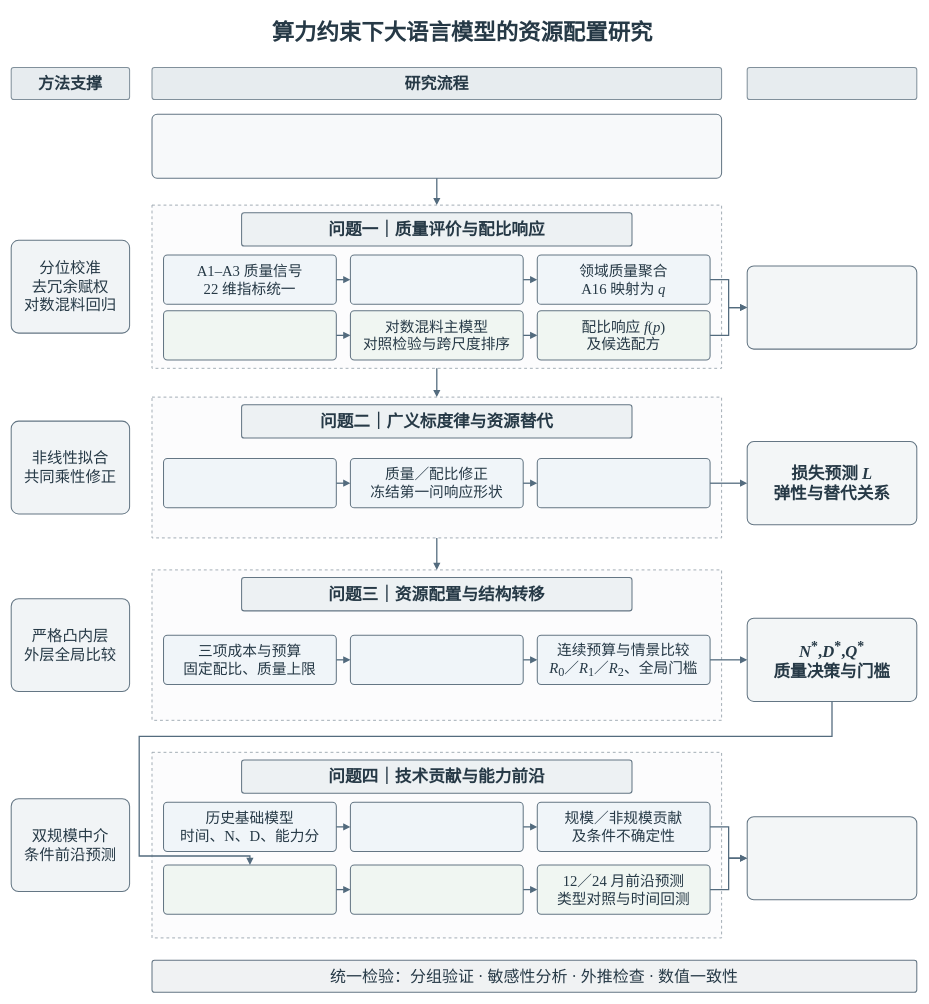
The diagram is 929 pixels wide and 1004 high, and some of its shapes have lost their labels. Here are the shapes that lost their labels. From the top down, the centre of each, then its label:
At (831,83): "任务产出".
At (436,145): "附件 A：质量信号与配比实验 · 附件 B：标度律实验 附件 C：历史能力、算力与模型元数据".
At (436,279): "去冗余赋权与 冲突识别、Soft-min".
At (831,307): "质量向量 q 配比响应 f ( p )".
At (250,335): "A4–A15 配比实验 17 域份额与验证损失".
At (250,483): "规模基线估计 B1 与跨来源校准".
At (623,483): "共同乘性标度律 边际效用与替代条件".
At (436,659): "预算消元＋分层优化 内层规模／外层质量".
At (436,826): "承接第二问规模响应 双中介与四角点分解".
At (831,858): "历史贡献分解 12／24 月前沿".
At (250,889): "历史算力情景 ＋第三问最优路径".
At (436,889): "Loss—能力桥接 条件高分位响应".
